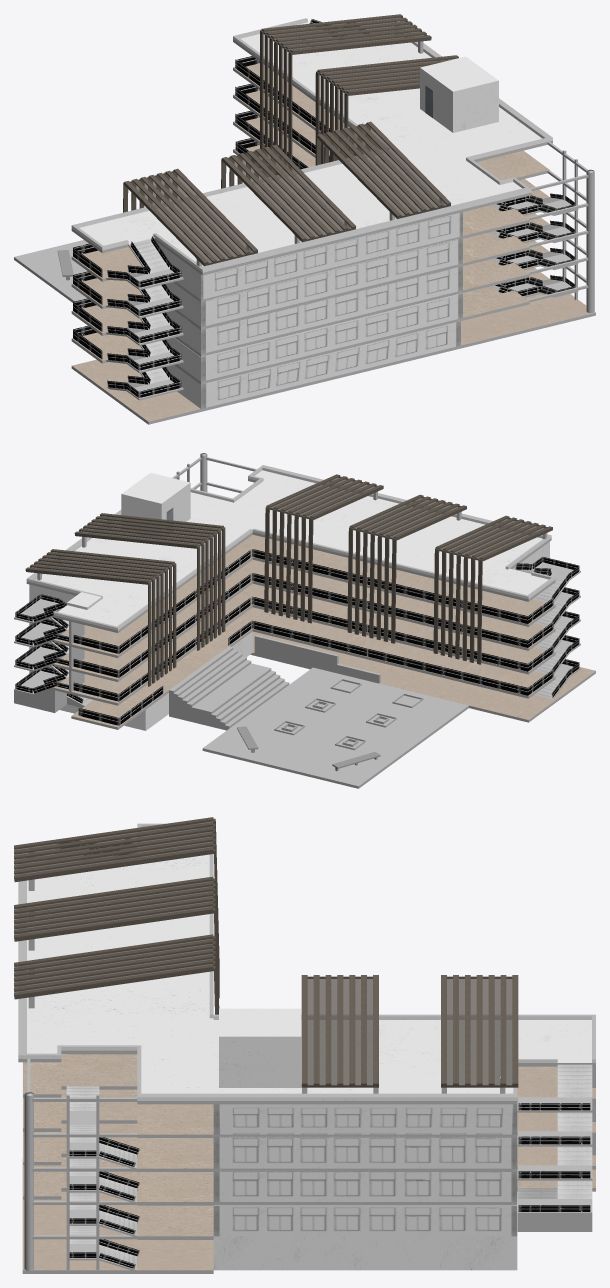
File: PARQUE TECH.fbx
3 views of the same model, one above another, from view 1: azimuth 30°, elevation 25°; view 2: azimuth 150°, elevation 25°; view 3: azimuth 270°, elevation 25° (orthographic). The views are drawn at different scales.
Visible parts, largest first — view 1: Parque_Tech; view 2: Parque_Tech; view 3: Parque_Tech.
Boxes of the visible parts, x1,y1,x2,y2 form: Parque_Tech: (14, 14, 595, 424); Parque_Tech: (14, 453, 595, 788); Parque_Tech: (14, 817, 595, 1273).
Size of the model in its own units: 3.4 by 1.32 by 3.05.
